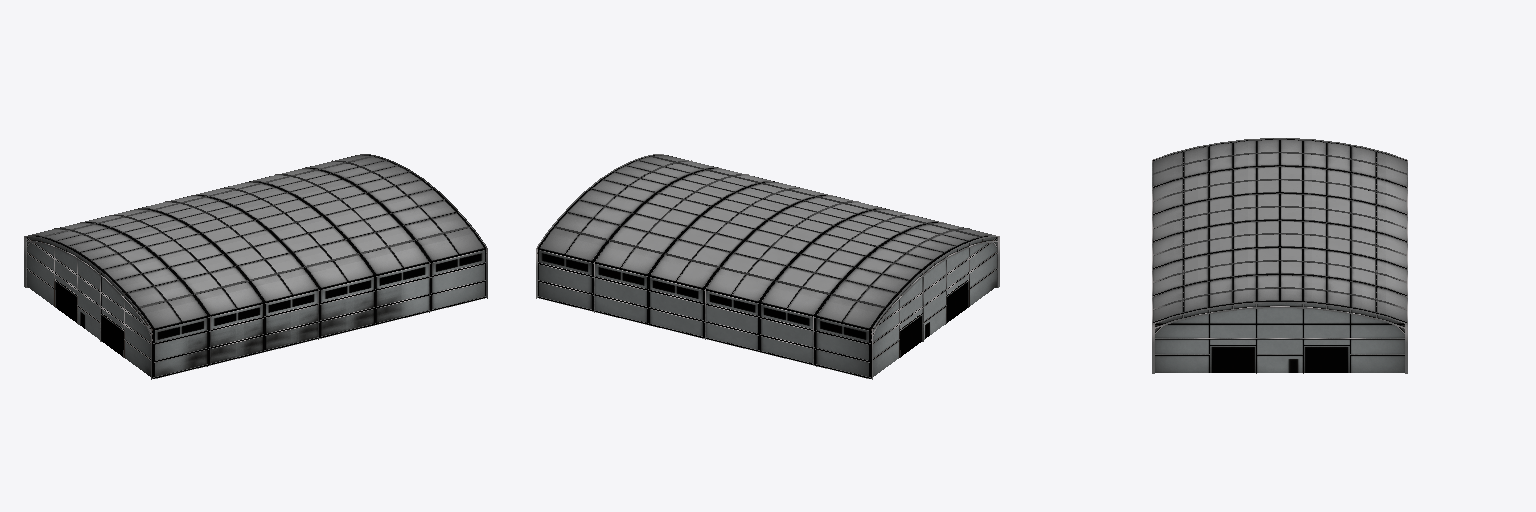
The picture shows the model from 3 angles: view 1: azimuth 30°, elevation 25°; view 2: azimuth 150°, elevation 25°; view 3: azimuth 270°, elevation 25°; orthographic projection.
Parts seen in each view (by area): view 1: building_floor_0, building_wall_0, support_beams_0, support.002_beams_0, support2_beams_0, support.003_beams_0; view 2: building_floor_0, building_wall_0, support_beams_0, support.002_beams_0, support2_beams_0, support.003_beams_0; view 3: building_floor_0, building_wall_0, support_beams_0, support.002_beams_0.
Boxes of the visible parts, <box> form: building_floor_0: <box>32,155,485,328</box>; building_wall_0: <box>27,236,485,378</box>; support_beams_0: <box>80,156,485,366</box>; support.002_beams_0: <box>24,154,487,379</box>; support2_beams_0: <box>26,171,410,360</box>; support.003_beams_0: <box>42,223,208,378</box>; building_floor_0: <box>538,155,991,328</box>; building_wall_0: <box>538,236,996,378</box>; support_beams_0: <box>538,156,943,366</box>; support.002_beams_0: <box>536,154,999,379</box>; support2_beams_0: <box>613,171,997,360</box>; support.003_beams_0: <box>815,223,981,378</box>; building_floor_0: <box>1153,139,1406,322</box>; building_wall_0: <box>1155,301,1404,372</box>; support_beams_0: <box>1152,165,1407,322</box>; support.002_beams_0: <box>1152,138,1407,373</box>.
Size of the model in its own units: 49.47 by 10.34 by 32.78.
Materials: 4 (4 with a texture image).